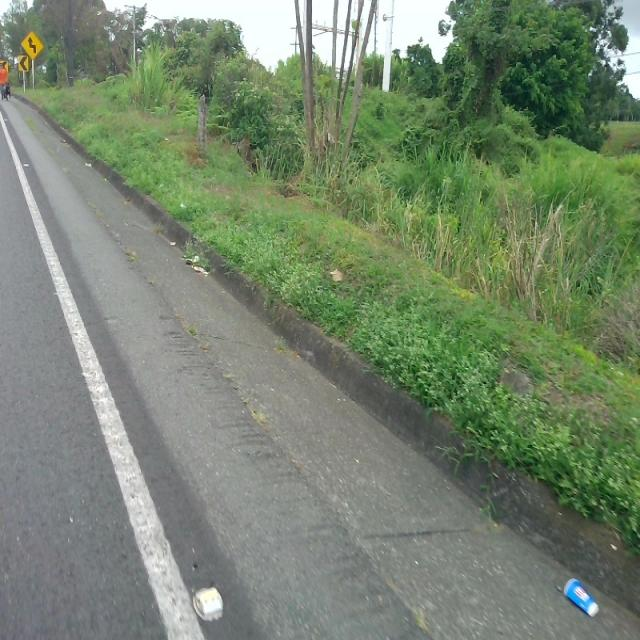DITCH: (4, 90, 638, 637)
